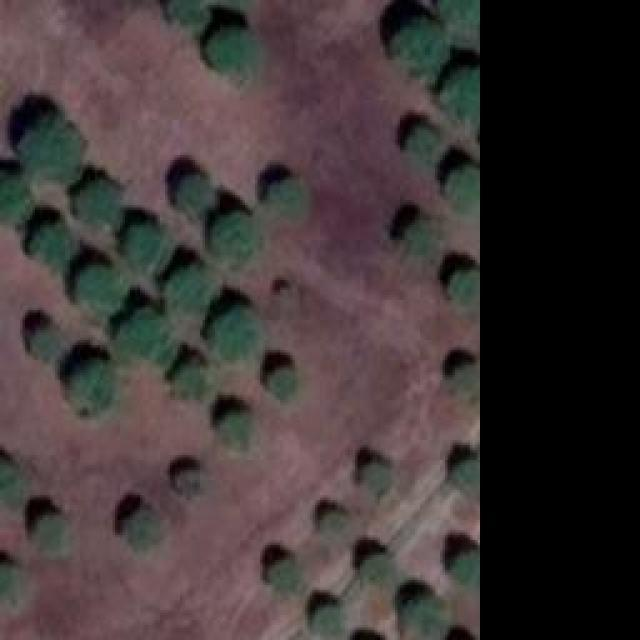Tree: (22, 122, 80, 180), (115, 308, 170, 361), (212, 307, 260, 355), (398, 23, 448, 68), (210, 28, 258, 71), (213, 213, 258, 256), (75, 267, 123, 305), (70, 363, 110, 408), (448, 70, 478, 128), (168, 268, 211, 308), (78, 185, 123, 223), (33, 225, 73, 263), (128, 228, 168, 263), (400, 598, 440, 633), (448, 168, 478, 213), (0, 175, 30, 220), (440, 0, 478, 35), (175, 178, 215, 211), (128, 510, 161, 543), (218, 413, 251, 446), (270, 180, 303, 208), (410, 125, 440, 155), (0, 460, 20, 505), (173, 365, 203, 395), (363, 555, 393, 585), (453, 270, 478, 305), (40, 518, 65, 553), (455, 550, 478, 585), (30, 327, 58, 355), (272, 560, 300, 588), (448, 365, 478, 390), (172, 0, 205, 22), (0, 565, 20, 600), (268, 370, 293, 395), (458, 460, 478, 490), (408, 223, 431, 248), (315, 608, 340, 631), (363, 463, 386, 486), (178, 470, 198, 495), (320, 513, 343, 533)
